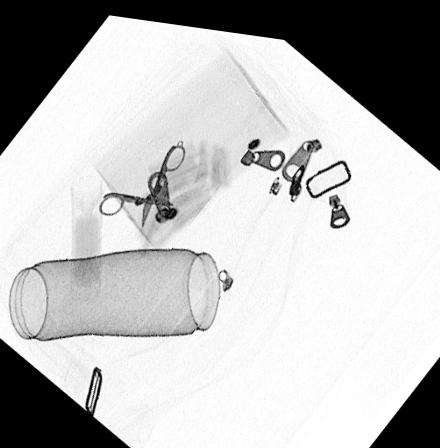Scissors: (96, 138, 187, 224)
